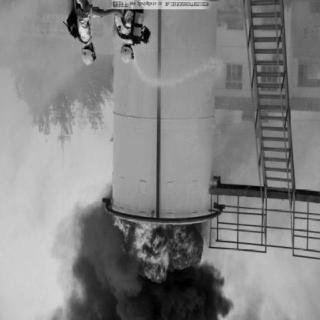Fire: (110, 208, 208, 288)
Smoke: (67, 279, 231, 317), (76, 214, 113, 276)
other: (118, 44, 136, 66), (80, 49, 96, 67)
